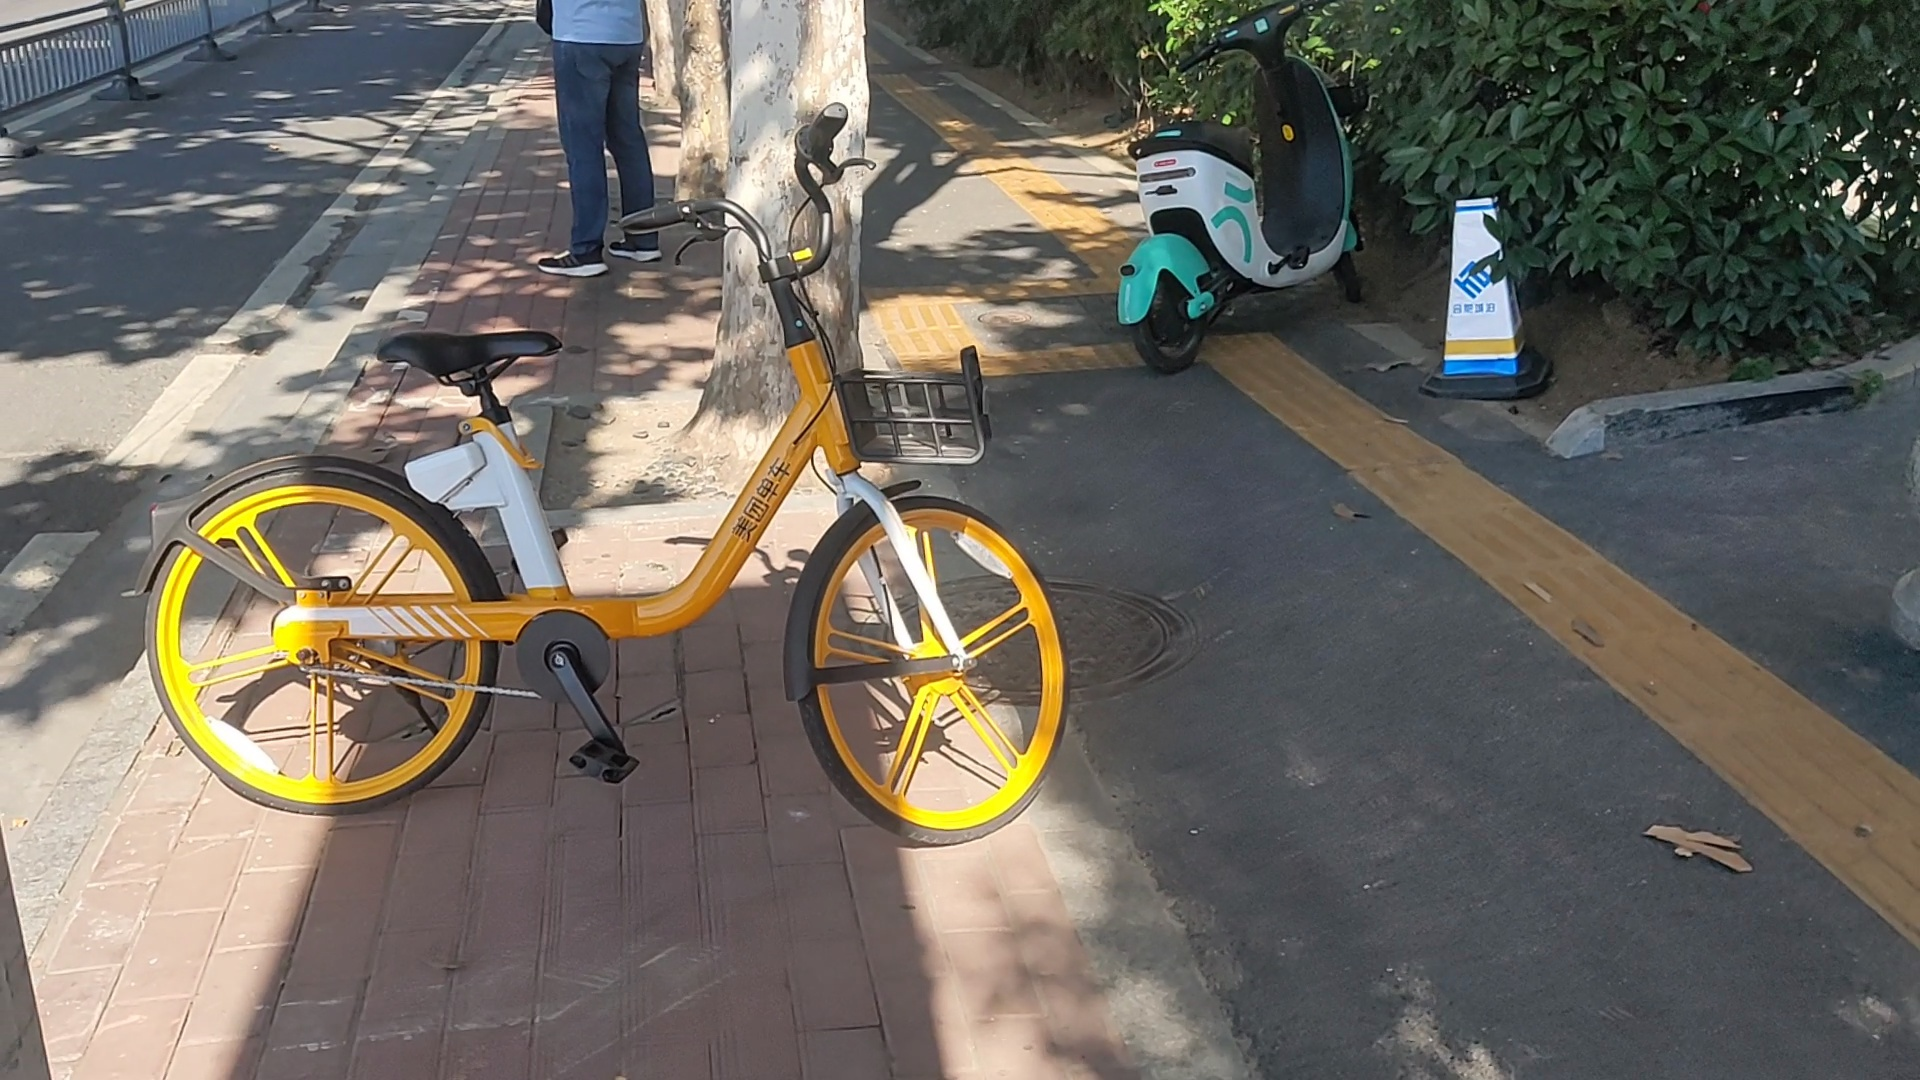non-vehicle: (146, 138, 1089, 851), (1116, 1, 1364, 376)
